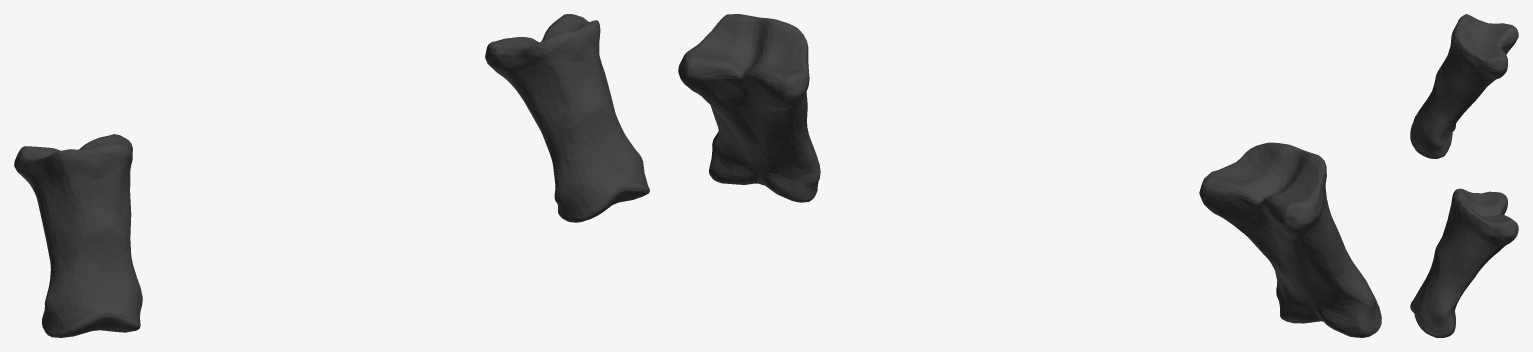
Rendered from skel_HL_proximal_phalanx.glb.
3 renders of one model, left to right at view 1: azimuth 30°, elevation 25°; view 2: azimuth 150°, elevation 25°; view 3: azimuth 270°, elevation 25°, orthographic. The views are drawn at different scales.
Parts seen in each view (by area): view 1: skel_HL_proximal_phalanx; view 2: skel_HL_proximal_phalanx; view 3: skel_HL_proximal_phalanx.
Part boxes in pixels (bbox=[...]): skel_HL_proximal_phalanx: bbox=[14, 14, 649, 337]; skel_HL_proximal_phalanx: bbox=[678, 14, 1381, 337]; skel_HL_proximal_phalanx: bbox=[1410, 14, 1518, 337].
Bounding box in the file's own units: 0.00586 × 0.00162 × 0.00125.
Materials: 1 (1 with a texture image).
